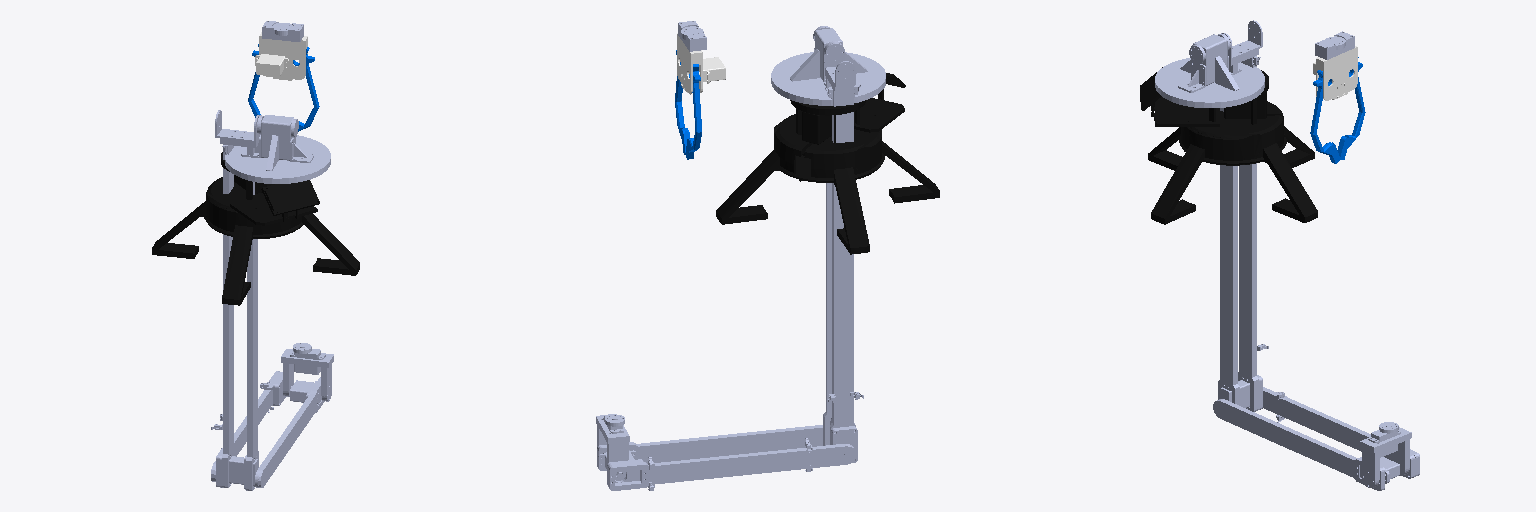
URDF robot description (5-dof_robotic_arm_ver-2.1.1.SLDASM):
<?xml version="1.0" encoding="utf-8"?>
<!-- This URDF was automatically created by SolidWorks to URDF Exporter! Originally created by Stephen Brawner (brawner@gmail.com) 
     Commit Version: 1.5.1-0-g916b5db  Build Version: 1.5.7152.31018
     For more information, please see http://wiki.ros.org/sw_urdf_exporter -->
<robot
  name="5-dof_robotic_arm_ver-2.1.1.SLDASM">
  <link
    name="base_link">
    <inertial>
      <origin
        xyz="-0.000395973071484104 -0.0123994918995056 0.102574953444877"
        rpy="0 0 0" />
      <mass
        value="1.21905149876009" />
      <inertia
        ixx="0.00583987040789698"
        ixy="-6.1347933866761E-05"
        ixz="2.40571380305013E-05"
        iyy="0.00553182274612335"
        iyz="0.000173398429831278"
        izz="0.00667499353989771" />
    </inertial>
    <visual>
      <origin
        xyz="0 0 0"
        rpy="0 0 0" />
      <geometry>
        <mesh
          filename="package://5-dof_robotic_arm_ver-2.1.1.SLDASM/meshes/base_link.STL" />
      </geometry>
      <material
        name="">
        <color
          rgba="0.101960784313725 0.101960784313725 0.101960784313725 1" />
      </material>
    </visual>
    <collision>
      <origin
        xyz="0 0 0"
        rpy="0 0 0" />
      <geometry>
        <mesh
          filename="package://5-dof_robotic_arm_ver-2.1.1.SLDASM/meshes/base_link.STL" />
      </geometry>
    </collision>
  </link>
  <link
    name="link-1">
    <inertial>
      <origin
        xyz="-0.0307767454780889 -0.0250644996430834 -0.0139348928366279"
        rpy="0 0 0" />
      <mass
        value="0.77736389341047" />
      <inertia
        ixx="0.00231095802545677"
        ixy="-2.32125009560035E-08"
        ixz="-5.31376549675497E-10"
        iyy="0.00136225437776653"
        iyz="6.5477827228429E-07"
        izz="0.00133366567859037" />
    </inertial>
    <visual>
      <origin
        xyz="0 0 0"
        rpy="0 0 0" />
      <geometry>
        <mesh
          filename="package://5-dof_robotic_arm_ver-2.1.1.SLDASM/meshes/link-1.STL" />
      </geometry>
      <material
        name="">
        <color
          rgba="0.792156862745098 0.819607843137255 0.933333333333333 1" />
      </material>
    </visual>
    <collision>
      <origin
        xyz="0 0 0"
        rpy="0 0 0" />
      <geometry>
        <mesh
          filename="package://5-dof_robotic_arm_ver-2.1.1.SLDASM/meshes/link-1.STL" />
      </geometry>
    </collision>
  </link>
  <joint
    name="joint-1"
    type="revolute">
    <origin
      xyz="-0.0078702 -0.027577 0.22789"
      rpy="0.7854 -1.5708 0" />
    <parent
      link="base_link" />
    <child
      link="link-1" />
    <axis
      xyz="0 0 1" />
    <limit
      lower="0"
      upper="6.283"
      effort="16.17"
      velocity="2" />
  </joint>
  <link
    name="link-2">
    <inertial>
      <origin
        xyz="0.0206828249455052 0.336344872903233 -0.0294274749136364"
        rpy="0 0 0" />
      <mass
        value="1.05373867886367" />
      <inertia
        ixx="0.0366541415965383"
        ixy="-1.06972206494076E-05"
        ixz="-8.3456569678203E-06"
        iyy="0.00052211974949916"
        iyz="6.03374028387191E-05"
        izz="0.0363034567332695" />
    </inertial>
    <visual>
      <origin
        xyz="0 0 0"
        rpy="0 0 0" />
      <geometry>
        <mesh
          filename="package://5-dof_robotic_arm_ver-2.1.1.SLDASM/meshes/link-2.STL" />
      </geometry>
      <material
        name="">
        <color
          rgba="0.792156862745098 0.819607843137255 0.933333333333333 1" />
      </material>
    </visual>
    <collision>
      <origin
        xyz="0 0 0"
        rpy="0 0 0" />
      <geometry>
        <mesh
          filename="package://5-dof_robotic_arm_ver-2.1.1.SLDASM/meshes/link-2.STL" />
      </geometry>
    </collision>
  </link>
  <joint
    name="joint-2"
    type="revolute">
    <origin
      xyz="0.0195 0.0077 -0.0345"
      rpy="1.5708 -1.5708 0" />
    <parent
      link="link-1" />
    <child
      link="link-2" />
    <axis
      xyz="-0.022885 0 -0.99974" />
    <limit
      lower="-1.57"
      upper="1.57"
      effort="1617"
      velocity="2" />
  </joint>
  <link
    name="link-3">
    <inertial>
      <origin
        xyz="0.328889672726058 -0.0722236303549397 0.057454351421005"
        rpy="0 0 0" />
      <mass
        value="0.273919545900285" />
      <inertia
        ixx="0.00383212013468944"
        ixy="-5.46538568531268E-06"
        ixz="3.0699356701763E-06"
        iyy="0.000359052374212516"
        iyz="-0.000155800052288248"
        izz="0.00351904412354081" />
    </inertial>
    <visual>
      <origin
        xyz="0 0 0"
        rpy="0 0 0" />
      <geometry>
        <mesh
          filename="package://5-dof_robotic_arm_ver-2.1.1.SLDASM/meshes/link-3.STL" />
      </geometry>
      <material
        name="">
        <color
          rgba="0.792156862745098 0.819607843137255 0.933333333333333 1" />
      </material>
    </visual>
    <collision>
      <origin
        xyz="0 0 0"
        rpy="0 0 0" />
      <geometry>
        <mesh
          filename="package://5-dof_robotic_arm_ver-2.1.1.SLDASM/meshes/link-3.STL" />
      </geometry>
    </collision>
  </link>
  <joint
    name="joint-3"
    type="revolute">
    <origin
      xyz="-0.11402 0.29337 0.0305"
      rpy="3.1416 0 1.5699" />
    <parent
      link="link-2" />
    <child
      link="link-3" />
    <axis
      xyz="-1.9785E-05 -0.022885 0.99974" />
    <limit
      lower="0"
      upper="3.142"
      effort="16.17"
      velocity="2" />
  </joint>
  <link
    name="link-4">
    <inertial>
      <origin
        xyz="-0.248269612920268 -0.0629025225003316 -0.0115324078109982"
        rpy="0 0 0" />
      <mass
        value="0.0871537910640149" />
      <inertia
        ixx="5.70114628081997E-05"
        ixy="-7.42276402204613E-07"
        ixz="-4.23882490470954E-06"
        iyy="8.80553133226209E-05"
        iyz="-1.10457253913841E-06"
        izz="4.27027941082601E-05" />
    </inertial>
    <visual>
      <origin
        xyz="0 0 0"
        rpy="0 0 0" />
      <geometry>
        <mesh
          filename="package://5-dof_robotic_arm_ver-2.1.1.SLDASM/meshes/link-4.STL" />
      </geometry>
      <material
        name="">
        <color
          rgba="0.792156862745098 0.819607843137255 0.933333333333333 1" />
      </material>
    </visual>
    <collision>
      <origin
        xyz="0 0 0"
        rpy="0 0 0" />
      <geometry>
        <mesh
          filename="package://5-dof_robotic_arm_ver-2.1.1.SLDASM/meshes/link-4.STL" />
      </geometry>
    </collision>
  </link>
  <joint
    name="joint-4"
    type="revolute">
    <origin
      xyz="0.038 -0.14302 0.02996"
      rpy="-3.1416 0 3.1407" />
    <parent
      link="link-3" />
    <child
      link="link-4" />
    <axis
      xyz="0 -0.022885 -0.99974" />
    <limit
      lower="0"
      upper="-3.142"
      effort="16.17"
      velocity="2" />
  </joint>
  <link
    name="link-5">
    <inertial>
      <origin
        xyz="0.0685164200623804 0.0586711366015971 -0.300180984979103"
        rpy="0 0 0" />
      <mass
        value="0.0267916360587393" />
      <inertia
        ixx="2.58025259702723E-06"
        ixy="1.60450785386127E-07"
        ixz="-5.13831004933039E-11"
        iyy="9.58579856065166E-06"
        iyz="-2.24464716654362E-09"
        izz="1.05481575136574E-05" />
    </inertial>
    <visual>
      <origin
        xyz="0 0 0"
        rpy="0 0 0" />
      <geometry>
        <mesh
          filename="package://5-dof_robotic_arm_ver-2.1.1.SLDASM/meshes/link-5.STL" />
      </geometry>
      <material
        name="">
        <color
          rgba="0.792156862745098 0.819607843137255 0.933333333333333 1" />
      </material>
    </visual>
    <collision>
      <origin
        xyz="0 0 0"
        rpy="0 0 0" />
      <geometry>
        <mesh
          filename="package://5-dof_robotic_arm_ver-2.1.1.SLDASM/meshes/link-5.STL" />
      </geometry>
    </collision>
  </link>
  <joint
    name="joint-5"
    type="revolute">
    <origin
      xyz="0.093 -0.0029078 -0.086836"
      rpy="0 -1.5708 0" />
    <parent
      link="link-4" />
    <child
      link="link-5" />
    <axis
      xyz="0 0 -1" />
    <limit
      lower="0"
      upper="3.142"
      effort="2.45"
      velocity="2" />
  </joint>
  <link
    name="gripper-palm">
    <inertial>
      <origin
        xyz="-0.000852295782423323 -0.0743545431217645 -0.290120478320735"
        rpy="0 0 0" />
      <mass
        value="0.0815290900235419" />
      <inertia
        ixx="5.11300011485085E-05"
        ixy="8.18071131129301E-06"
        ixz="-5.14638320962097E-06"
        iyy="6.20598703485255E-05"
        iyz="9.52777162274833E-06"
        izz="5.01917193909703E-05" />
    </inertial>
    <visual>
      <origin
        xyz="0 0 0"
        rpy="0 0 0" />
      <geometry>
        <mesh
          filename="package://5-dof_robotic_arm_ver-2.1.1.SLDASM/meshes/gripper-palm.STL" />
      </geometry>
      <material
        name="">
        <color
          rgba="1 1 1 1" />
      </material>
    </visual>
    <collision>
      <origin
        xyz="0 0 0"
        rpy="0 0 0" />
      <geometry>
        <mesh
          filename="package://5-dof_robotic_arm_ver-2.1.1.SLDASM/meshes/gripper-palm.STL" />
      </geometry>
    </collision>
  </link>
  <joint
    name="gripper-palm-joint"
    type="fixed">
    <origin
      xyz="0.061816 -0.009 0.03"
      rpy="0 0 3.1416" />
    <parent
      link="link-5" />
    <child
      link="gripper-palm" />
    <axis
      xyz="0 0 0" />
  </joint>
  <link
    name="left-jaw">
    <inertial>
      <origin
        xyz="0.145942904899066 -0.0578535108815973 -0.221849734945783"
        rpy="0 0 0" />
      <mass
        value="0.0284622881213147" />
      <inertia
        ixx="5.49954331955112E-05"
        ixy="1.09262618869917E-07"
        ixz="3.51223594239905E-05"
        iyy="8.70900199894167E-05"
        iyz="7.94758157635857E-08"
        izz="3.25087082283506E-05" />
    </inertial>
    <visual>
      <origin
        xyz="0 0 0"
        rpy="0 0 0" />
      <geometry>
        <mesh
          filename="package://5-dof_robotic_arm_ver-2.1.1.SLDASM/meshes/left-jaw.STL" />
      </geometry>
      <material
        name="">
        <color
          rgba="0 0.501960784313725 1 1" />
      </material>
    </visual>
    <collision>
      <origin
        xyz="0 0 0"
        rpy="0 0 0" />
      <geometry>
        <mesh
          filename="package://5-dof_robotic_arm_ver-2.1.1.SLDASM/meshes/left-jaw.STL" />
      </geometry>
    </collision>
  </link>
  <joint
    name="left-jaw-joint"
    type="revolute">
    <origin
      xyz="-0.022808 -0.0032752 0.030844"
      rpy="0 0.62301 0" />
    <parent
      link="gripper-palm" />
    <child
      link="left-jaw" />
    <axis
      xyz="0.018586 0.99974 0.013353" />
    <limit
      lower="0"
      upper="7"
      effort="2.45"
      velocity="1" />
  </joint>
  <link
    name="right-jaw">
    <inertial>
      <origin
        xyz="0.156958033457702 0.0695415014399802 -0.213961566056889"
        rpy="0 0 0" />
      <mass
        value="0.0284518262346102" />
      <inertia
        ixx="5.4926547881768E-05"
        ixy="1.07919295455092E-07"
        ixz="3.50977854855502E-05"
        iyy="8.70124289011238E-05"
        iyz="8.11022922666606E-08"
        izz="3.24998937867788E-05" />
    </inertial>
    <visual>
      <origin
        xyz="0 0 0"
        rpy="0 0 0" />
      <geometry>
        <mesh
          filename="package://5-dof_robotic_arm_ver-2.1.1.SLDASM/meshes/right-jaw.STL" />
      </geometry>
      <material
        name="">
        <color
          rgba="0 0.501960784313725 1 1" />
      </material>
    </visual>
    <collision>
      <origin
        xyz="0 0 0"
        rpy="0 0 0" />
      <geometry>
        <mesh
          filename="package://5-dof_robotic_arm_ver-2.1.1.SLDASM/meshes/right-jaw.STL" />
      </geometry>
    </collision>
  </link>
  <joint
    name="right-jaw-joint"
    type="revolute">
    <origin
      xyz="0.024199 0.007225 0.030844"
      rpy="0 0.62439 3.1416" />
    <parent
      link="gripper-palm" />
    <child
      link="right-jaw" />
    <axis
      xyz="0.018567 0.99974 0.013379" />
    <limit
      lower="-7"
      upper="0"
      effort="2.45"
      velocity="1" />
  </joint>
</robot>

--- Facts derived from the render (not from the file) ---
The picture shows the robot from 3 angles, left to right: view 1: azimuth 30°, elevation 25°; view 2: azimuth 150°, elevation 25°; view 3: azimuth 270°, elevation 25°; orthographic projection.
Robot: 5-dof_robotic_arm_ver-2.1.1.SLDASM — 9 links, 8 joints (7 revolute, 1 fixed); root link base_link; default pose: every joint at zero.
Visible links, largest first — view 1: base_link, link-2, link-1, link-3, gripper-palm, link-4, link-5; view 2: base_link, link-3, link-2, link-1, gripper-palm, link-4, right-jaw, link-5; view 3: base_link, link-2, link-3, link-1, link-4, gripper-palm, left-jaw, link-5, right-jaw.
Link boxes in pixels (left/top/right/bottom): base_link: left=152, top=152, right=359, bottom=305; link-2: left=211, top=110, right=260, bottom=490; link-1: left=225, top=115, right=330, bottom=183; link-3: left=211, top=371, right=326, bottom=487; gripper-palm: left=255, top=32, right=307, bottom=80; link-4: left=281, top=343, right=333, bottom=401; link-5: left=262, top=21, right=303, bottom=41; base_link: left=716, top=73, right=939, bottom=254; link-3: left=597, top=425, right=856, bottom=490; link-2: left=823, top=43, right=863, bottom=462; link-1: left=771, top=26, right=885, bottom=105; gripper-palm: left=677, top=33, right=725, bottom=94; link-4: left=596, top=414, right=629, bottom=475; right-jaw: left=685, top=64, right=701, bottom=159; link-5: left=678, top=21, right=706, bottom=51; base_link: left=1140, top=67, right=1317, bottom=224; link-2: left=1218, top=20, right=1268, bottom=411; link-3: left=1213, top=387, right=1419, bottom=490; link-1: left=1155, top=33, right=1264, bottom=107; link-4: left=1360, top=422, right=1411, bottom=487; gripper-palm: left=1313, top=46, right=1357, bottom=100; left-jaw: left=1310, top=70, right=1339, bottom=163; link-5: left=1315, top=31, right=1354, bottom=59; right-jaw: left=1337, top=57, right=1365, bottom=159.
Size in the robot's own frame: 0.402 by 0.4331 by 0.7206 metres.
9 mesh visuals loaded from 9 distinct referenced files (9 binary STL).
